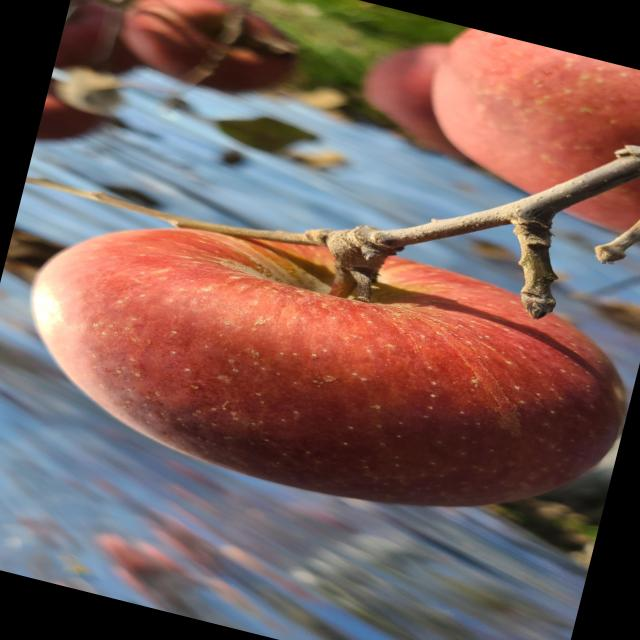fresh: (1, 156, 636, 564)
